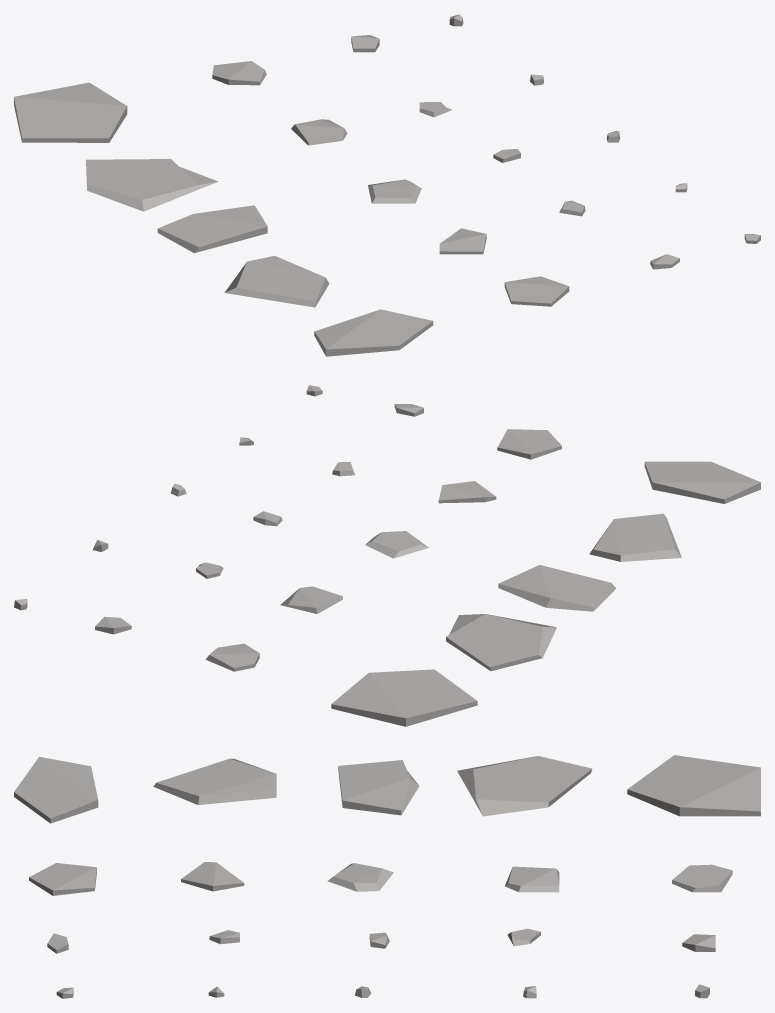
The model's file is Stone Tiles.fbx.
3 views of the same model, one above another, from view 1: azimuth 30°, elevation 25°; view 2: azimuth 150°, elevation 25°; view 3: azimuth 270°, elevation 25° (orthographic). The views are drawn at different scales.
Parts seen in each view (by area): view 1: Large Tile 5, Large Tile 1, Large Tile 4, Large Tile 3, Large Tile 2, Medium Tile 5, Medium Tile 3, Medium Tile 1, Medium Tile 2, Medium Tile 4; view 2: Large Tile 5, Large Tile 1, Large Tile 4, Large Tile 2, Large Tile 3, Medium Tile 5, Medium Tile 3, Medium Tile 2, Medium Tile 1, Medium Tile 4; view 3: Large Tile 5, Large Tile 1, Large Tile 4, Large Tile 3, Large Tile 2, Medium Tile 5, Medium Tile 1, Medium Tile 2, Medium Tile 3, Medium Tile 4, Small Tile 1, Small Tile 2.
Part boxes in pixels (x1,y1,x2,y2): Large Tile 5: (14, 82, 127, 142); Large Tile 1: (86, 159, 218, 211); Large Tile 4: (314, 309, 433, 356); Large Tile 3: (224, 255, 329, 307); Large Tile 2: (157, 205, 267, 253); Medium Tile 5: (504, 276, 569, 306); Medium Tile 3: (368, 179, 421, 203); Medium Tile 1: (212, 61, 266, 85); Medium Tile 2: (291, 119, 347, 145); Medium Tile 4: (439, 228, 486, 254); Large Tile 5: (331, 669, 477, 726); Large Tile 1: (446, 614, 556, 671); Large Tile 4: (644, 461, 760, 503); Large Tile 2: (498, 565, 616, 611); Large Tile 3: (589, 513, 681, 561); Medium Tile 5: (497, 429, 561, 459); Medium Tile 3: (365, 531, 428, 558); Medium Tile 2: (280, 586, 342, 613); Medium Tile 1: (206, 643, 259, 671); Medium Tile 4: (438, 481, 496, 503); Large Tile 5: (627, 755, 760, 816); Large Tile 1: (457, 756, 592, 816); Large Tile 4: (14, 756, 98, 823); Large Tile 3: (153, 758, 276, 804); Large Tile 2: (338, 760, 419, 815); Medium Tile 5: (29, 863, 96, 895); Medium Tile 1: (672, 864, 732, 892); Medium Tile 2: (505, 866, 559, 892); Medium Tile 3: (327, 863, 393, 891); Medium Tile 4: (181, 862, 244, 891); Small Tile 1: (682, 934, 715, 951); Small Tile 2: (507, 928, 541, 946).
Size of the model in its own units: 849 by 15.87 by 1117.
